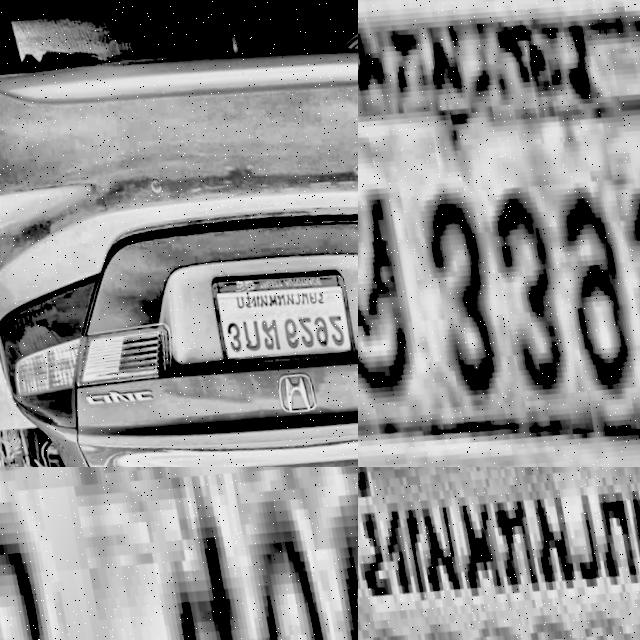license-plate: (358, 0, 640, 467), (0, 467, 358, 640), (358, 467, 640, 640), (204, 255, 355, 370)
